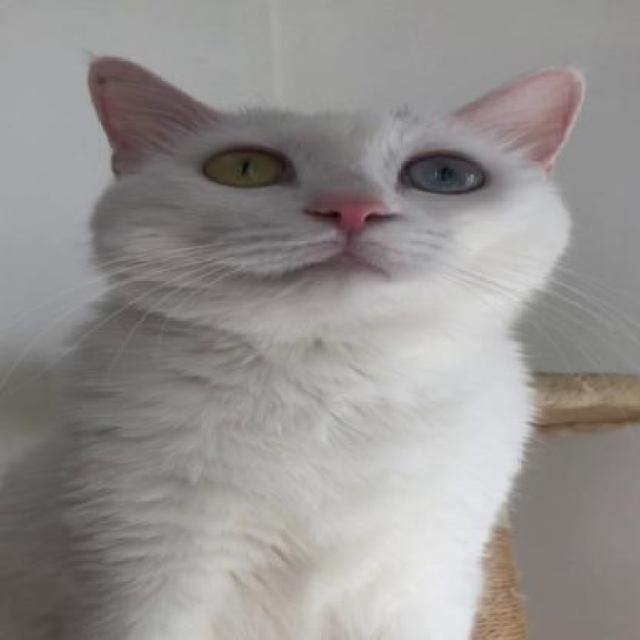cat-face: (79, 46, 596, 323)
